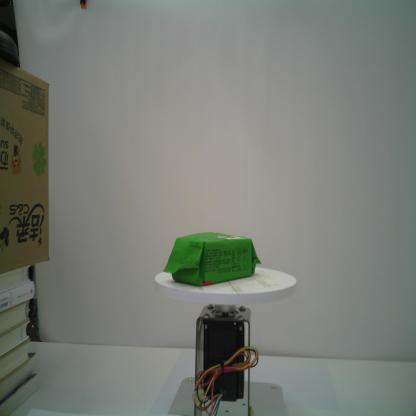Dessert: (163, 231, 262, 288)
